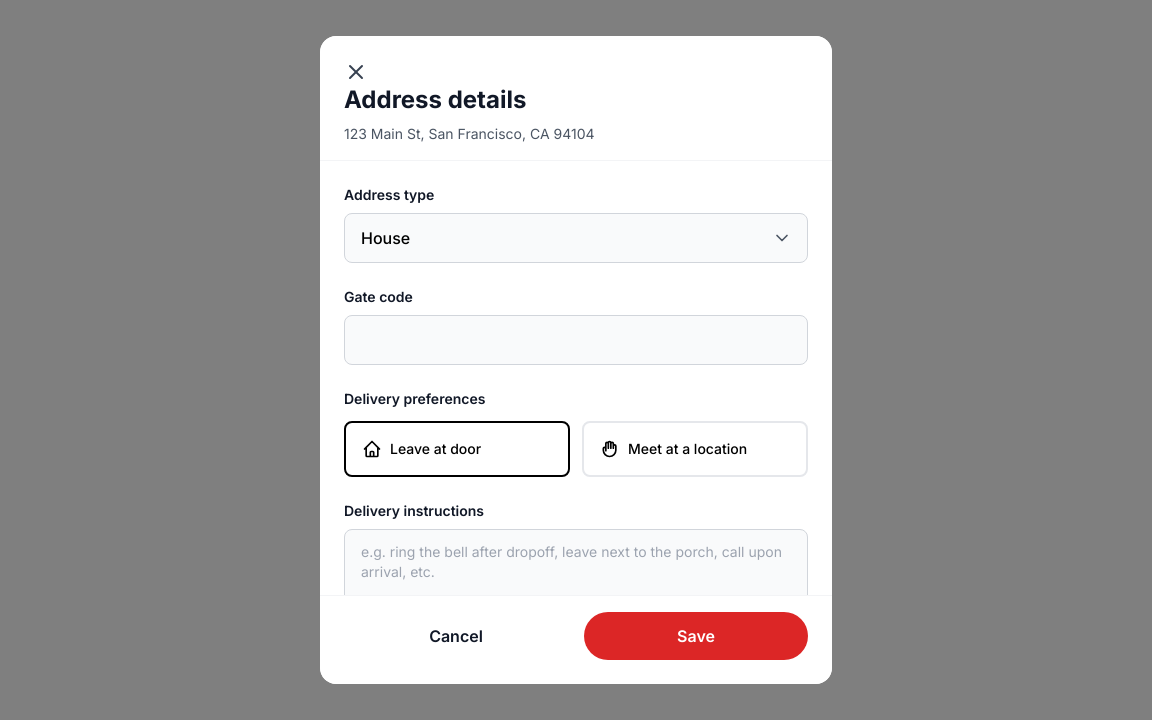
it: AddressDetailsModal › should toggle delivery preference when clicking buttons
Click the button "Meet at a location" at [695, 449], box x1=582 y1=421 x2=808 y2=477
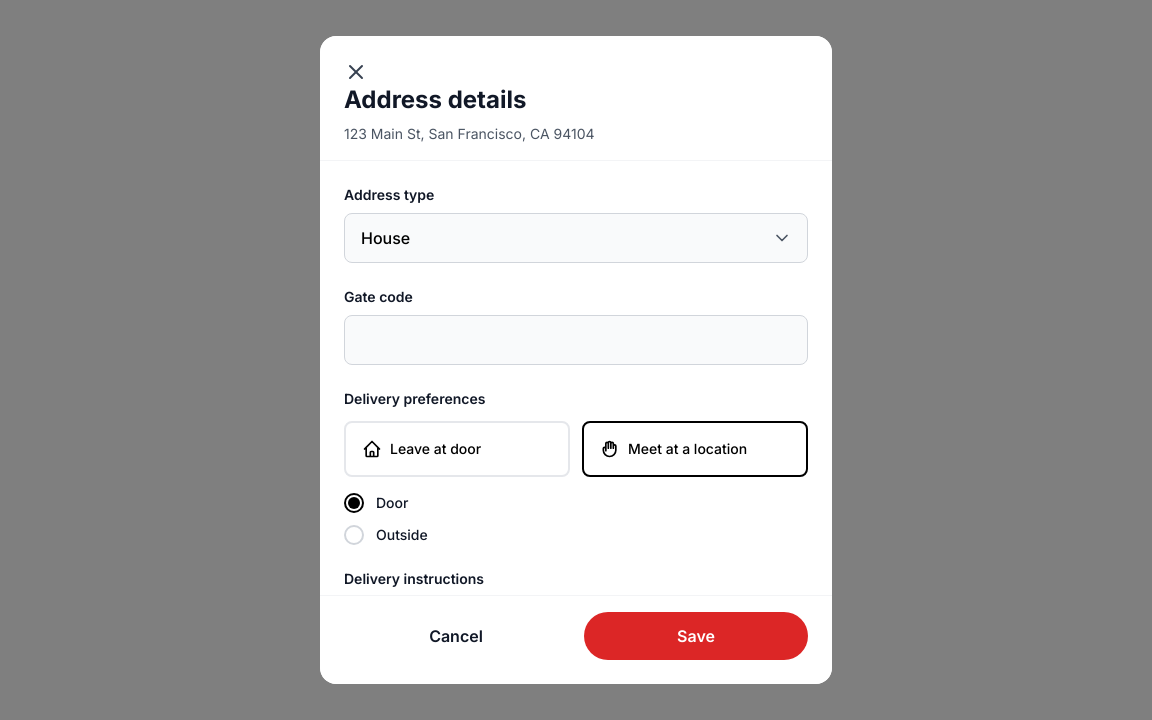
Result: the text "Door" is shown at x1=376 y1=493 x2=408 y2=513
Result: the text "Outside" is shown at x1=376 y1=525 x2=428 y2=545
